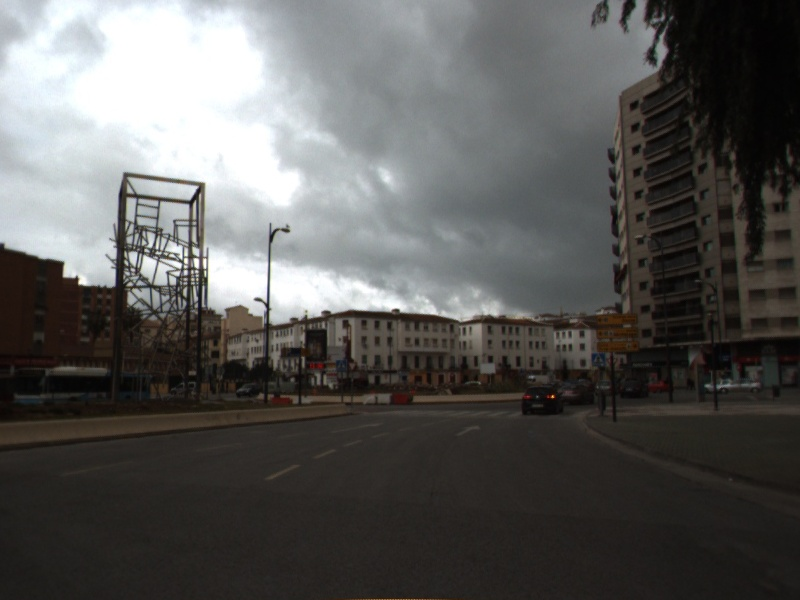STRAIGHT: (453, 423, 483, 438)
